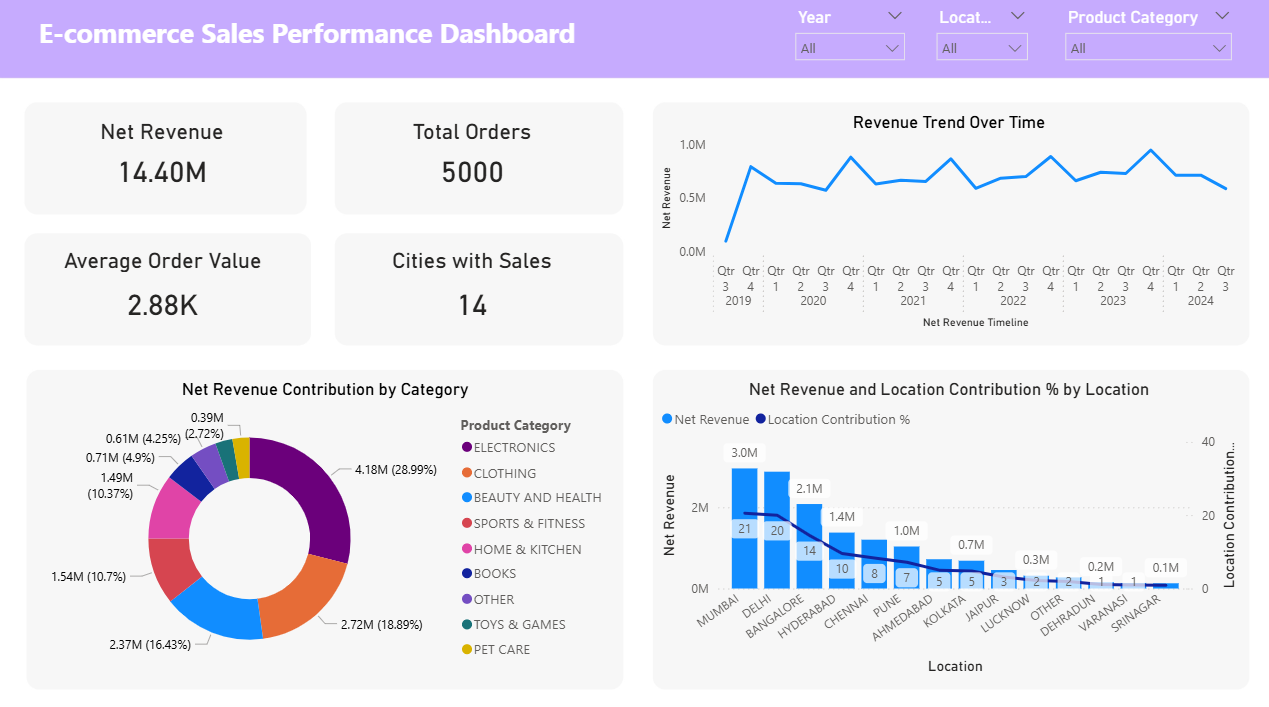

What the dashboard file says about the page in this screenshot:
{"tool":"powerbi","page":{"name":"Overall Sales Performance","canvas":[1280,720],"ordinal":0},"visuals":[{"type":"textbox","box":[38.6,21.4,558.6,50],"z":0},{"type":"slicer","fields":{"Values":["Query1.Year"]},"box":[790,14.3,130,65.7],"z":1000},{"type":"slicer","fields":{"Values":["Ecommerce_sales.Product_category"]},"box":[1060,14.3,187.1,65.7],"z":2000},{"type":"card","title":"Net Revenue","fields":{"Values":["Sum(Query1.Net_amount)"]},"box":[81.4,131.4,171.4,78.6],"z":3000},{"type":"card","title":"Total Orders","fields":{"Values":["Query1.Total orders"]},"box":[361.4,131.4,231.4,78.6],"z":4000},{"type":"card","title":"Average Order Value","fields":{"Values":["Query1.Average order value"]},"box":[55.7,260,222.9,85.7],"z":5000},{"type":"lineChart","title":"Revenue Trend Over Time","fields":{"Y":["Sum(Query1.Net_amount)"],"Category":["Query1.Month_Year.Variation.Date Hierarchy.Year","Query1.Month_Year.Variation.Date Hierarchy.Quarter"]},"box":[661.4,124.3,585.7,221.4],"z":6000},{"type":"card","title":"Cities with Sales","fields":{"Values":["Ecommerce_sales.Cities Covered"]},"box":[361.4,260,231.4,85.7],"z":7000},{"type":"donutChart","title":"Net Revenue Contribution by Category","fields":{"Category":["Ecommerce_sales.Product_category"],"Y":["Sum(Ecommerce_sales.Net_amount)"]},"box":[38.6,391.4,582.9,300],"z":8000},{"type":"lineStackedColumnComboChart","title":"Net Revenue and Location Contribution % by Location","fields":{"Category":["Ecommerce_sales.Location"],"Y":["Ecommerce_sales.Total revenue"],"Y2":["Ecommerce_sales.Location Contribution %"]},"box":[661.4,391.4,585.7,300],"z":9000},{"type":"slicer","fields":{"Values":["Query1.Location"]},"box":[931.4,14.3,111.4,65.7],"z":10000}]}

Visuals, with their boxes in screenshot pixels (x1, y1, x2, y2), scaled from the page's 1280x720 canvas onto the 1269x707 screenshot:
textbox: (38,21,592,70)
slicer - Query1.Year: (783,14,912,79)
slicer - Ecommerce_sales.Product_category: (1051,14,1236,79)
"Net Revenue" card: (81,129,251,206)
"Total Orders" card: (358,129,588,206)
"Average Order Value" card: (55,255,276,339)
"Revenue Trend Over Time" lineChart: (656,122,1236,339)
"Cities with Sales" card: (358,255,588,339)
"Net Revenue Contribution by Category" donutChart: (38,384,616,679)
"Net Revenue and Location Contribution % by Location" lineStackedColumnComboChart: (656,384,1236,679)
slicer - Query1.Location: (923,14,1034,79)
